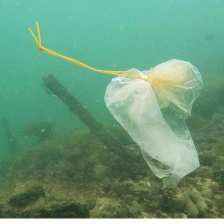plastic_bag: (104, 55, 209, 191)
